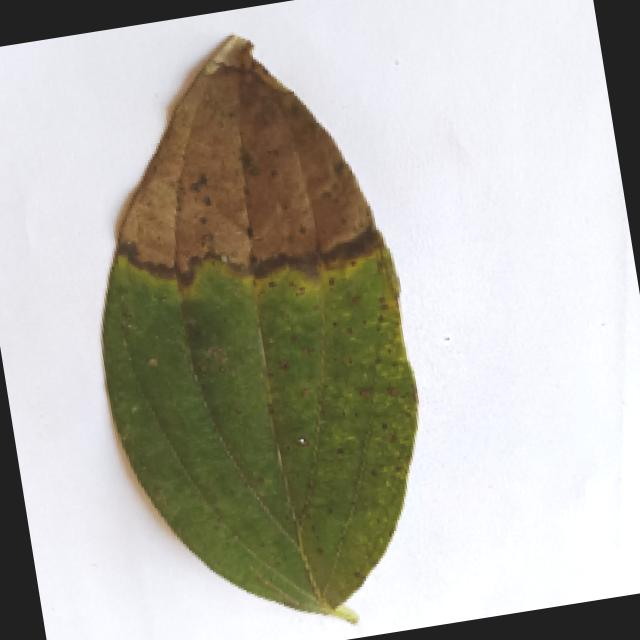footrot: (34, 7, 499, 640)
